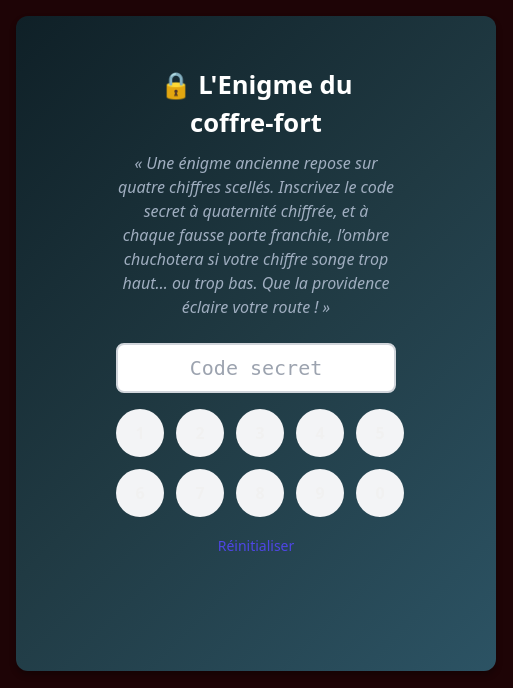
Test: StrongBox › affiche un indice si chiffre incorrect
Click the button "5".
click(380, 433)  # box [356,409,404,457]
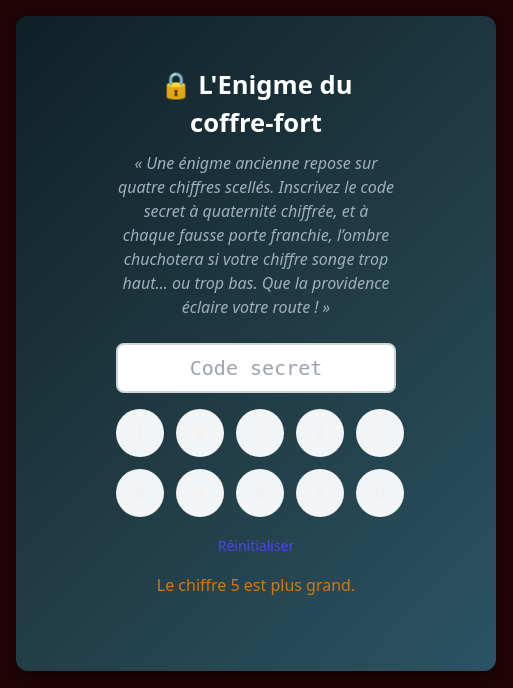
Result: the text "Le chiffre 5 est plus grand." is shown at [157,574,355,596]
